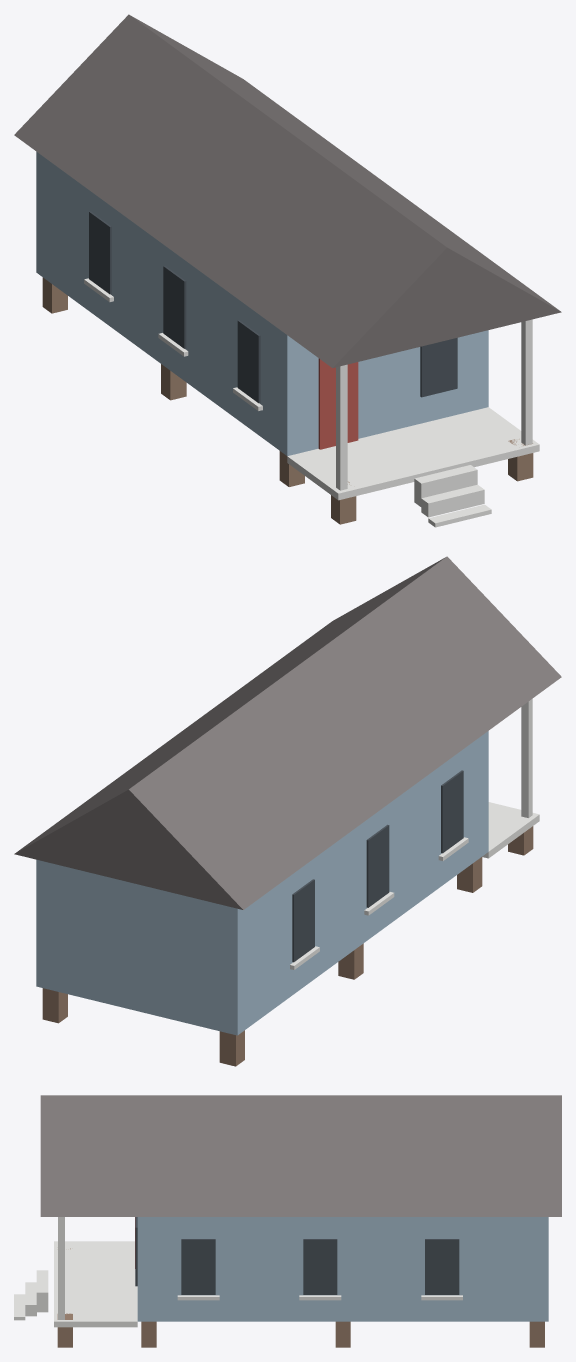
Rendered from SM_House_Shotgun_C.fbx.
The picture shows the model from 3 angles, top to bottom: view 1: azimuth 30°, elevation 25°; view 2: azimuth 150°, elevation 25°; view 3: azimuth 270°, elevation 25°; orthographic projection. The views are drawn at different scales.
Visible parts, largest first — view 1: SM_House_Shotgun_C_LOD0; view 2: SM_House_Shotgun_C_LOD0; view 3: SM_House_Shotgun_C_LOD0.
Boxes of the visible parts, left/top/right/bottom form: SM_House_Shotgun_C_LOD0: left=14, top=14, right=561, bottom=527; SM_House_Shotgun_C_LOD0: left=14, top=556, right=561, bottom=1066; SM_House_Shotgun_C_LOD0: left=14, top=1095, right=561, bottom=1347.
Size of what is drawn, in the model's own units: 5.7 by 6.2 by 14.4.
